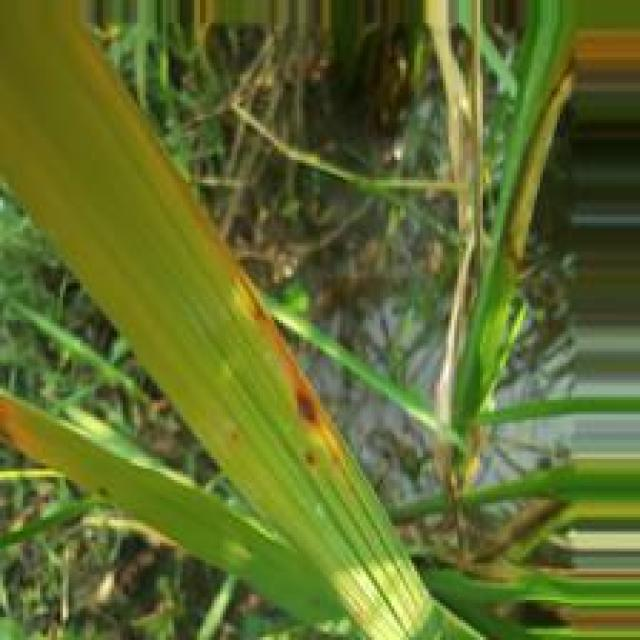Rice Tungro: (237, 261, 352, 460)
